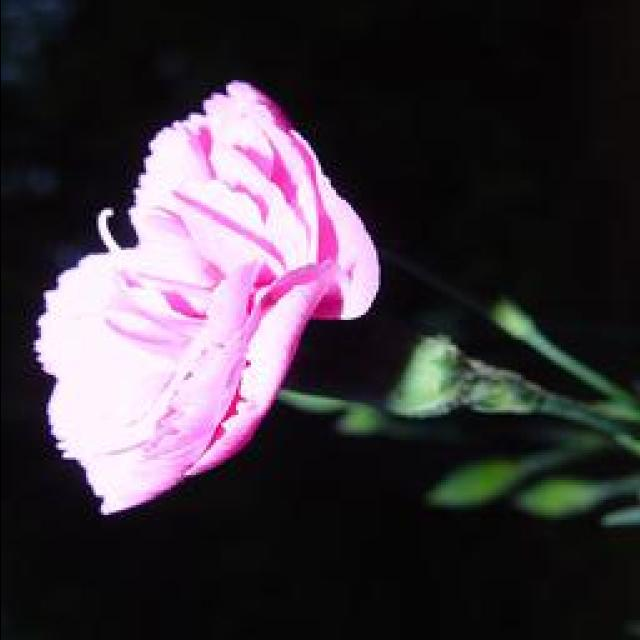carnation: (31, 73, 378, 527)
